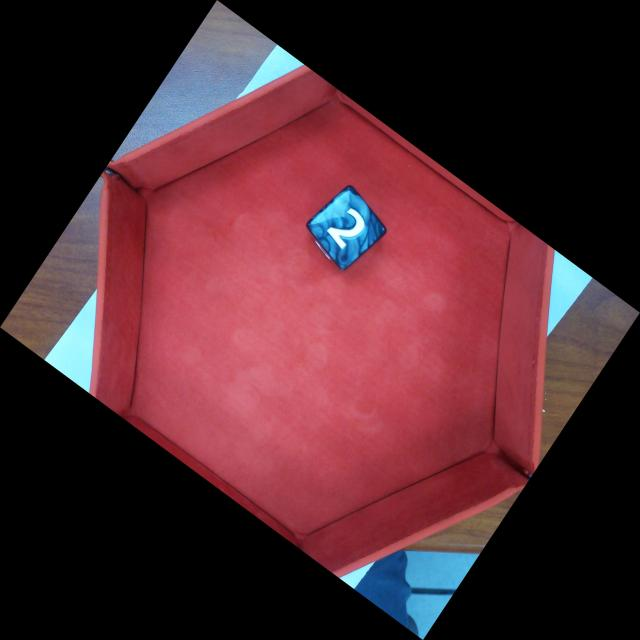dice: (309, 186, 389, 272)
